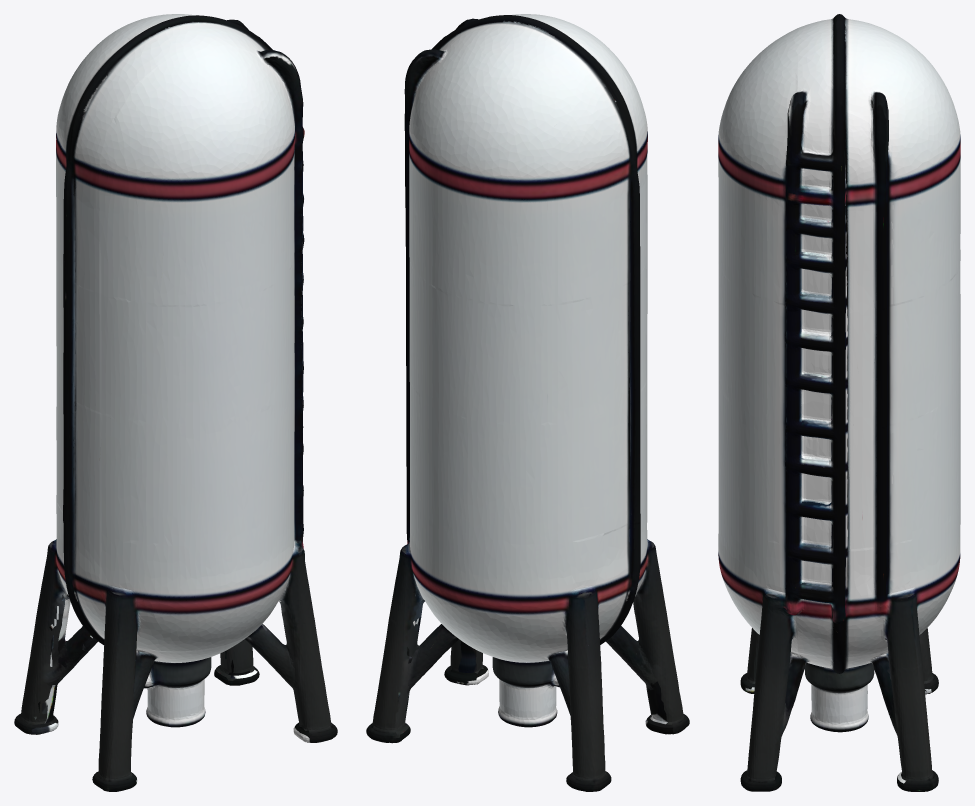
File: fuel_tank.glb
The picture shows the model from 3 angles, left to right: view 1: azimuth 30°, elevation 25°; view 2: azimuth 150°, elevation 25°; view 3: azimuth 270°, elevation 25°; orthographic projection.
Visible parts, largest first — view 1: tmpi_q6lu4s.ply; view 2: tmpi_q6lu4s.ply; view 3: tmpi_q6lu4s.ply.
Part boxes in pixels (x1=…): tmpi_q6lu4s.ply: x1=14, y1=14, x2=337, y2=791; tmpi_q6lu4s.ply: x1=366, y1=14, x2=689, y2=791; tmpi_q6lu4s.ply: x1=718, y1=14, x2=960, y2=791.
Bounding box in the file's own units: 0.6924 × 2 × 0.617.
Materials: 1 (1 with a texture image).
